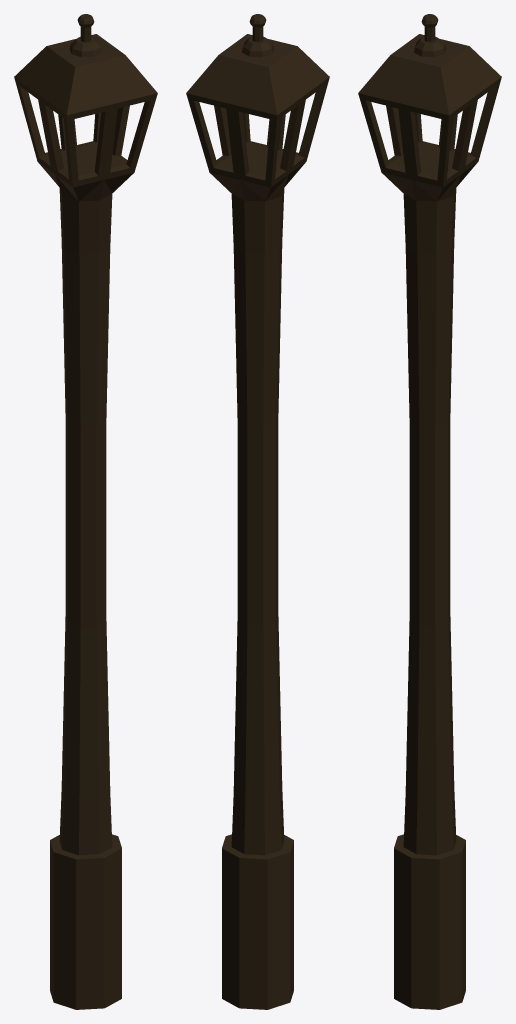
File: Street_Lamp.fbx
3 views of the same model, side by side, from view 1: azimuth 30°, elevation 25°; view 2: azimuth 150°, elevation 25°; view 3: azimuth 330°, elevation 25° (orthographic).
Visible parts, largest first — view 1: Test_StreetLamp; view 2: Test_StreetLamp; view 3: Test_StreetLamp.
Part boxes in pixels (x1,y1,x2,y2): Test_StreetLamp: (14, 14, 157, 1009); Test_StreetLamp: (186, 14, 329, 1009); Test_StreetLamp: (358, 14, 501, 1009).
Size of the model in its own units: 25.89 by 265 by 25.89.
